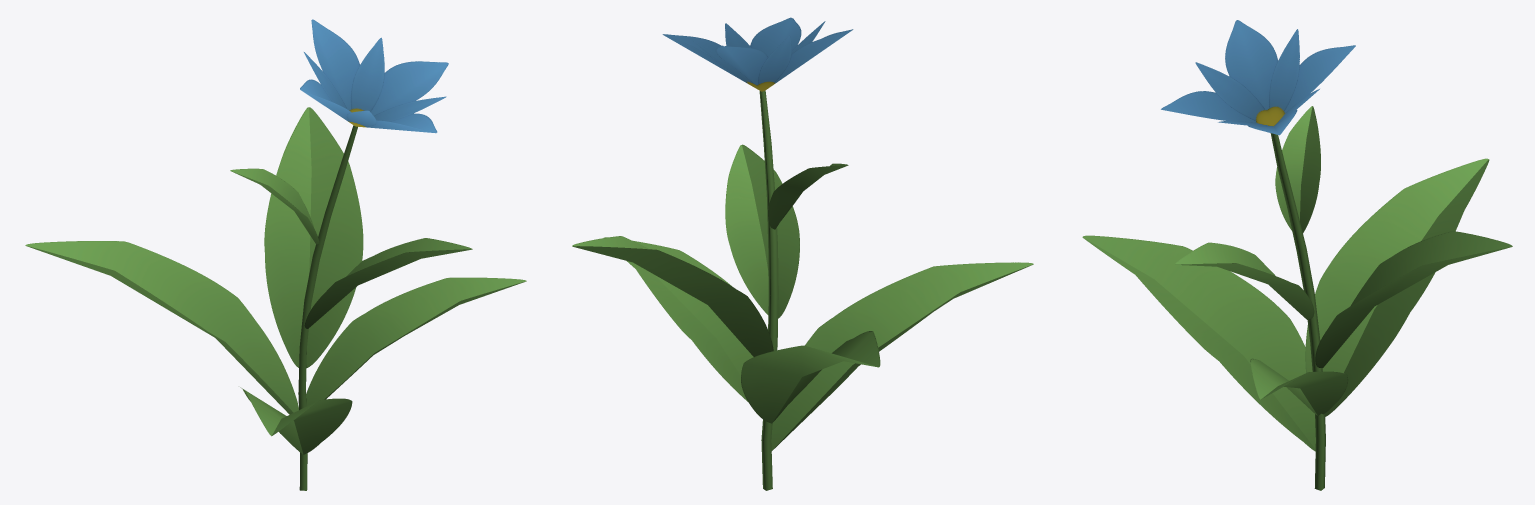
The model's file is Flowers_5.fbx.
3 renders of one model, left to right at view 1: azimuth 30°, elevation 25°; view 2: azimuth 150°, elevation 25°; view 3: azimuth 270°, elevation 25°, orthographic.
Visible parts, largest first — view 1: Flowers_5_LOD0; view 2: Flowers_5_LOD0; view 3: Flowers_5_LOD0.
Boxes of the visible parts, x1,y1,x2,y2 form: Flowers_5_LOD0: [25, 19, 526, 490]; Flowers_5_LOD0: [572, 17, 1033, 490]; Flowers_5_LOD0: [1082, 20, 1512, 490].
Size of what is drawn, in the model's own units: 30.29 by 32.55 by 28.7.
